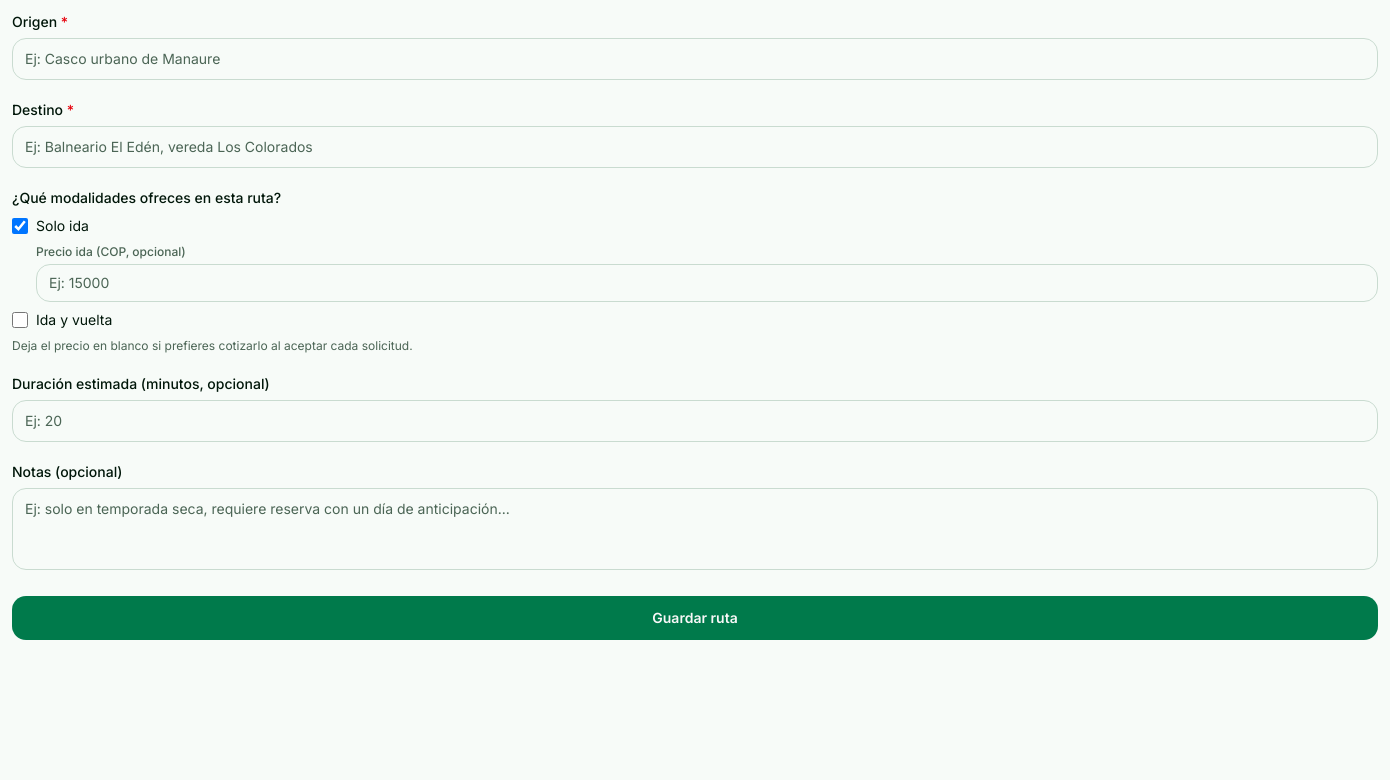
Scenario: RouteForm › only shows the price field for a checked modality
This screenshot has width=1390, height=780.
expect the number field labelled "Precio ida (COP, opcional)" is shown: met, box [36,264,1378,302]
expect the field labelled "precio ida y vuelta" is not shown: met
Click the checkbox labelled "Ida y vuelta".
click(20, 320)  # box [12,312,28,328]
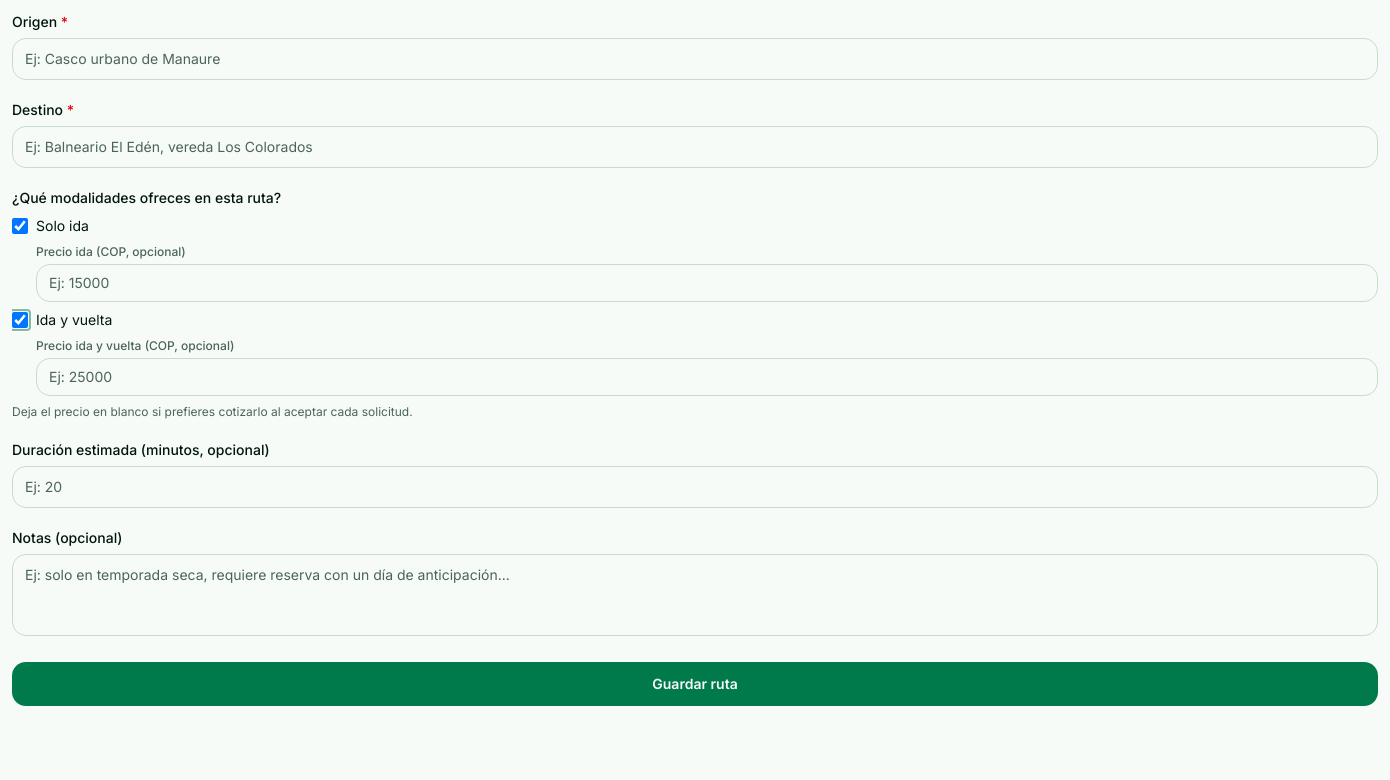
expect the number field labelled "Precio ida y vuelta (COP, opcional)" is shown: met, box [36,358,1378,396]
Click the checkbox labelled "Solo ida".
click(20, 226)  # box [12,218,28,234]
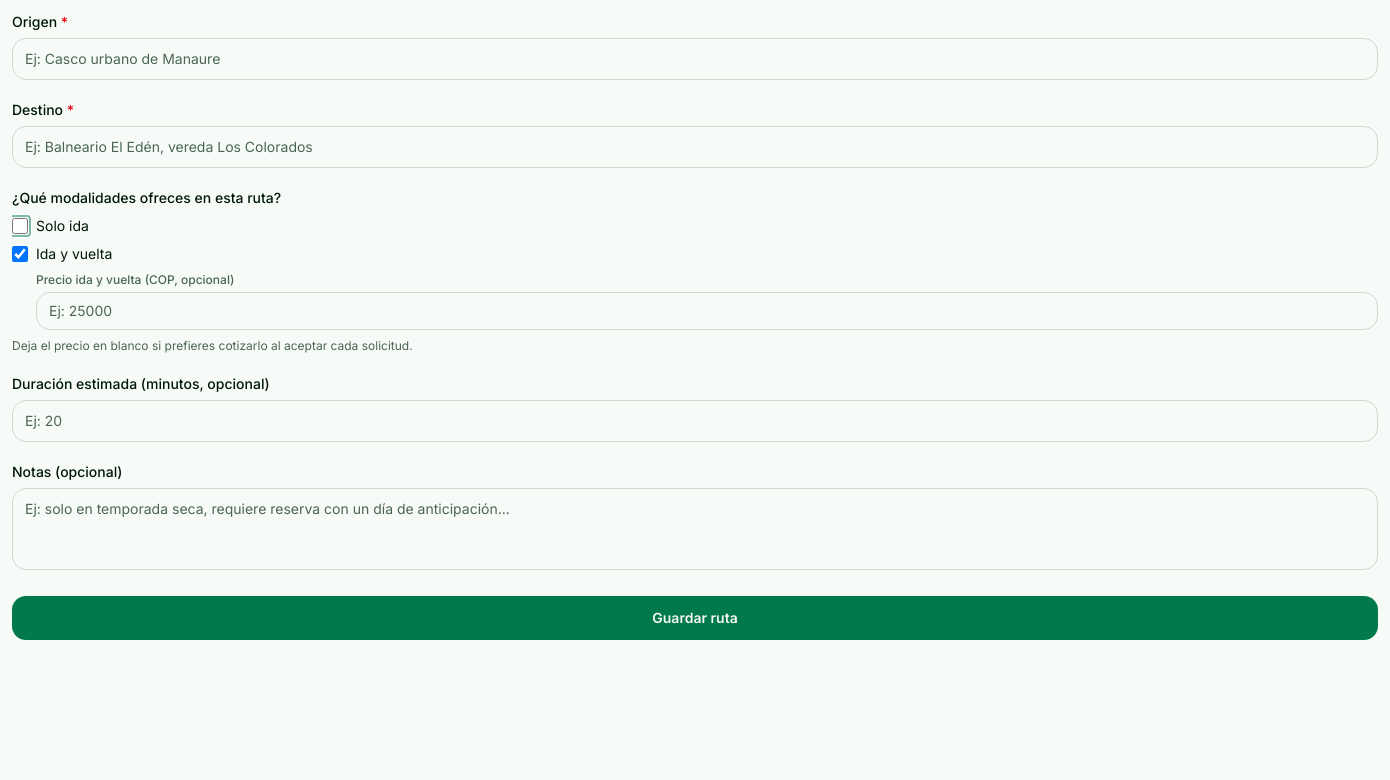
expect the label labelled "Precio ida (" is gone: met
